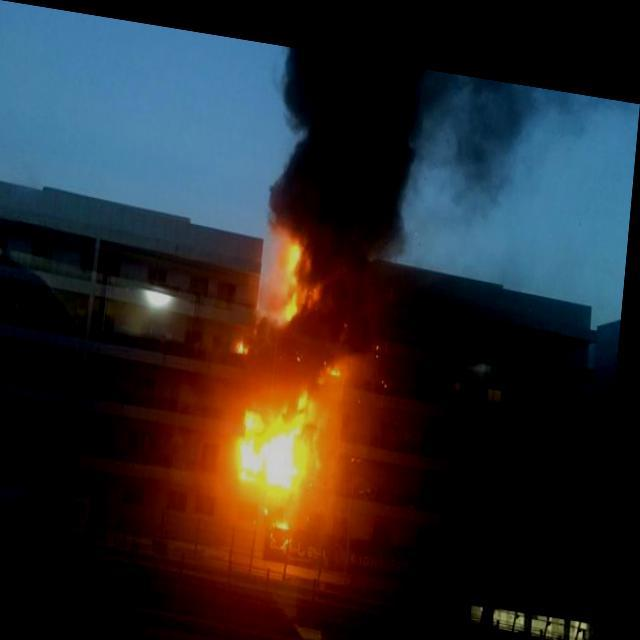Fire: (236, 378, 335, 524), (285, 226, 317, 312), (236, 327, 256, 344), (334, 350, 346, 366)
